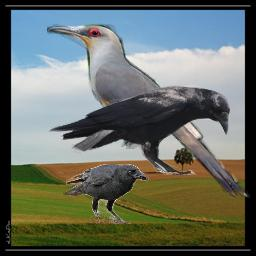Crow: (47, 85, 230, 175), (62, 164, 149, 224)
Cuckoo: (47, 23, 250, 202)
